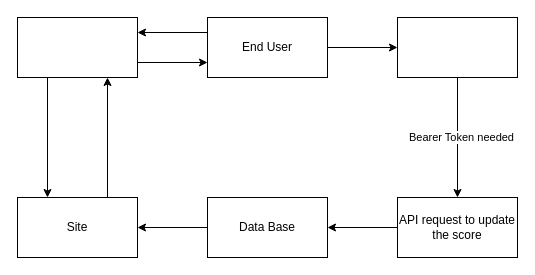
This 535x275 diagram has some shape labels left out. Here are the shapes that lost their labels. From the top down, the box of each, then its label:
(16, 16, 138, 78): Notify client via WebSocket
(396, 16, 518, 78): User Request
